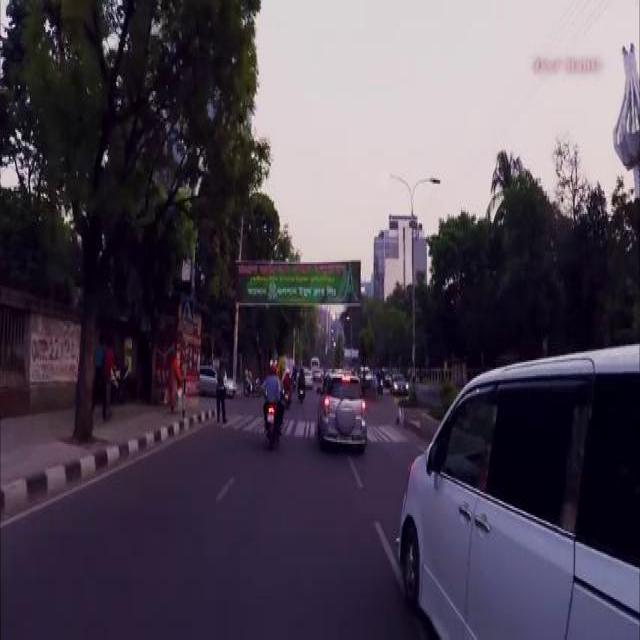car: (315, 368, 367, 447), (200, 362, 237, 392), (388, 373, 408, 392), (304, 366, 312, 384)
minivan: (394, 340, 638, 637)
motorbike: (263, 385, 283, 448), (296, 374, 304, 401), (283, 383, 291, 403)
